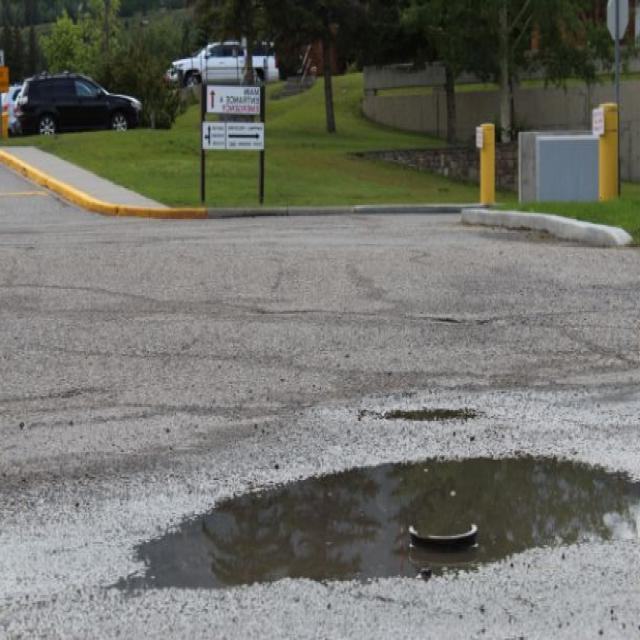Pothole: (108, 444, 640, 594)
